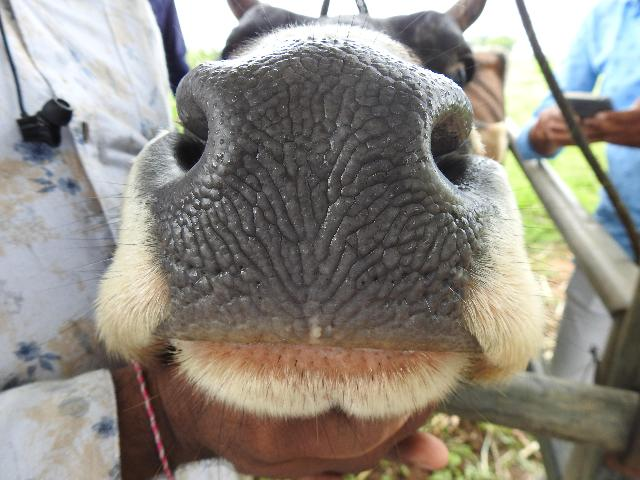Muzzle: (192, 72, 442, 346)
